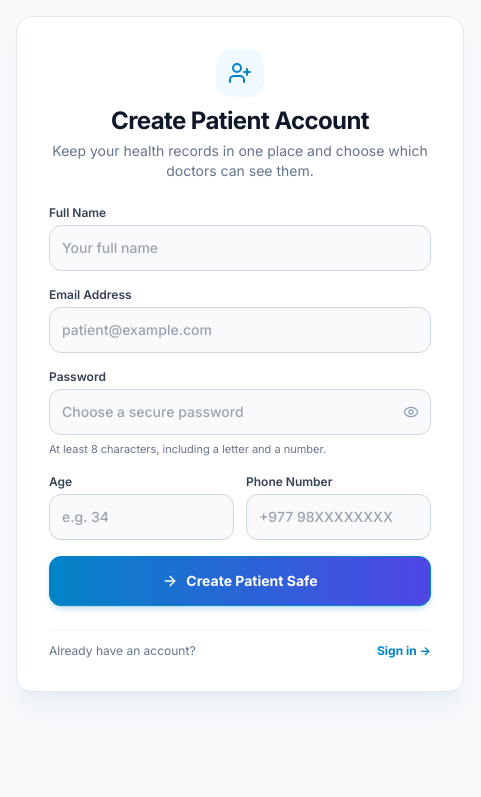
it: patient registration form › a weak password is explained and nothing is sent
Type "abcdefgh" into the password field with placeholder "Choose a secure password" at (240, 412), box [49,389,431,435]
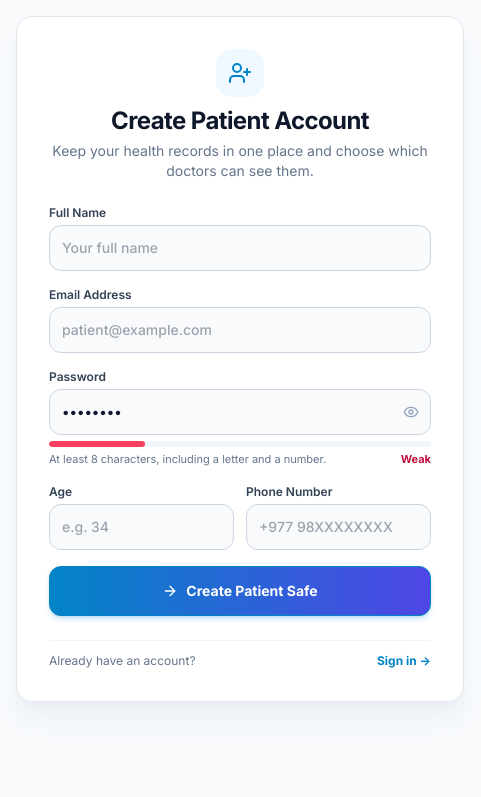
Submit the form, box [49,205,431,616]
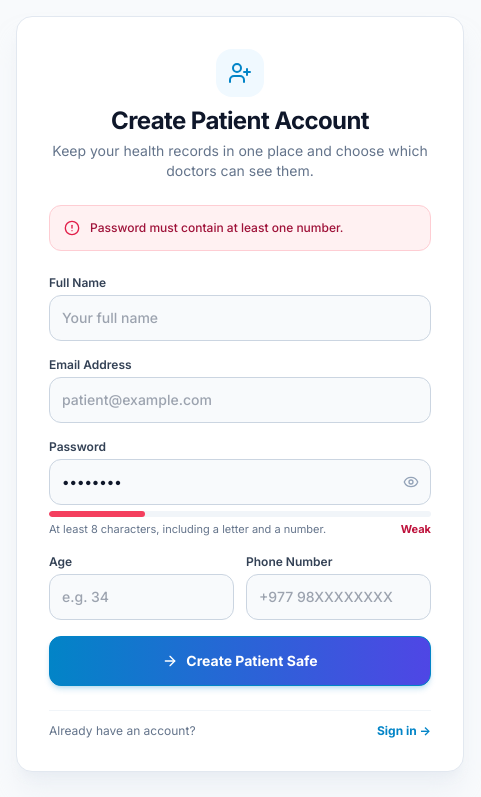
Check: the text "Password must contain at least one number." is shown, box [90,220,344,236]
